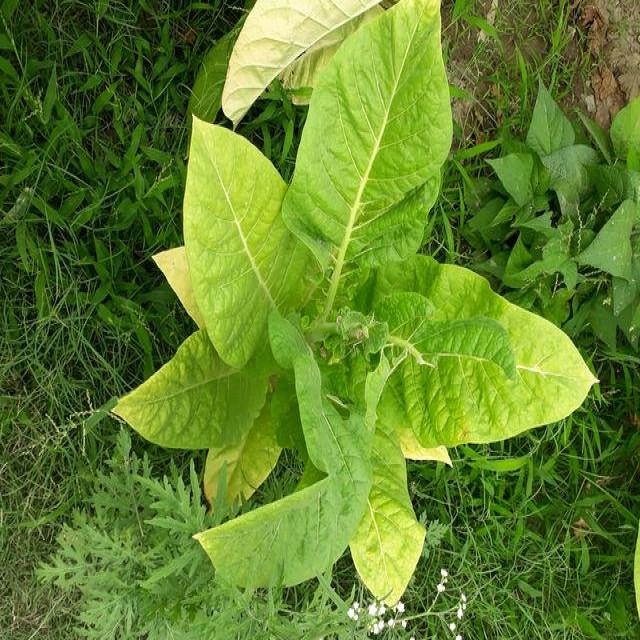crop: (105, 5, 600, 623)
